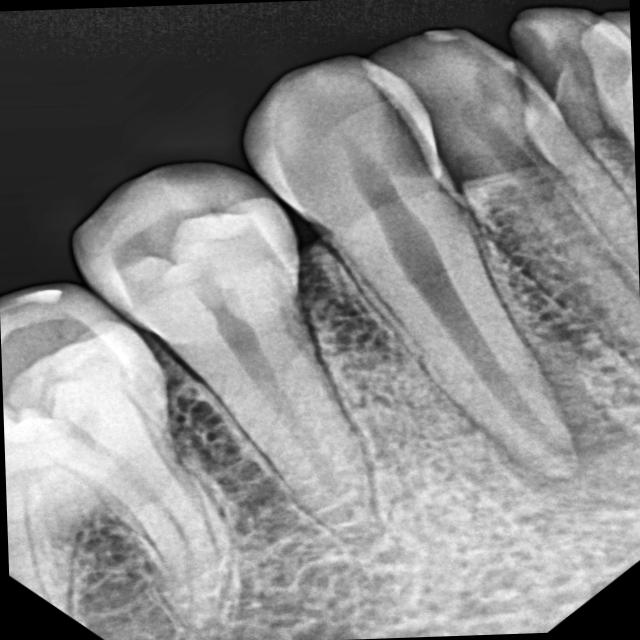Caries: (16, 144, 316, 351), (323, 34, 474, 197)
Normal: (0, 272, 272, 640)
